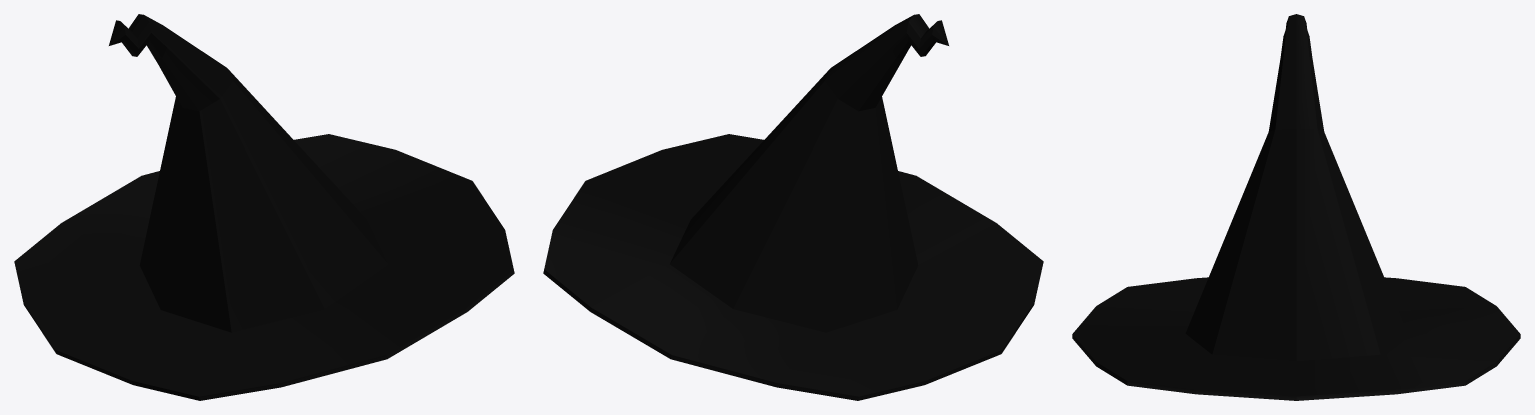
File: WITCH HAT.fbx
3 renders of one model, left to right at view 1: azimuth 30°, elevation 25°; view 2: azimuth 150°, elevation 25°; view 3: azimuth 270°, elevation 25°, orthographic. The views are drawn at different scales.
Parts seen in each view (by area): view 1: WITCH_HAT; view 2: WITCH_HAT; view 3: WITCH_HAT.
Part boxes in pixels (x1,y1,x2,y2): WITCH_HAT: [14, 14, 514, 400]; WITCH_HAT: [543, 14, 1043, 400]; WITCH_HAT: [1072, 14, 1520, 400].
Bounding box in the file's own units: 45.05 × 32.73 × 45.69.
